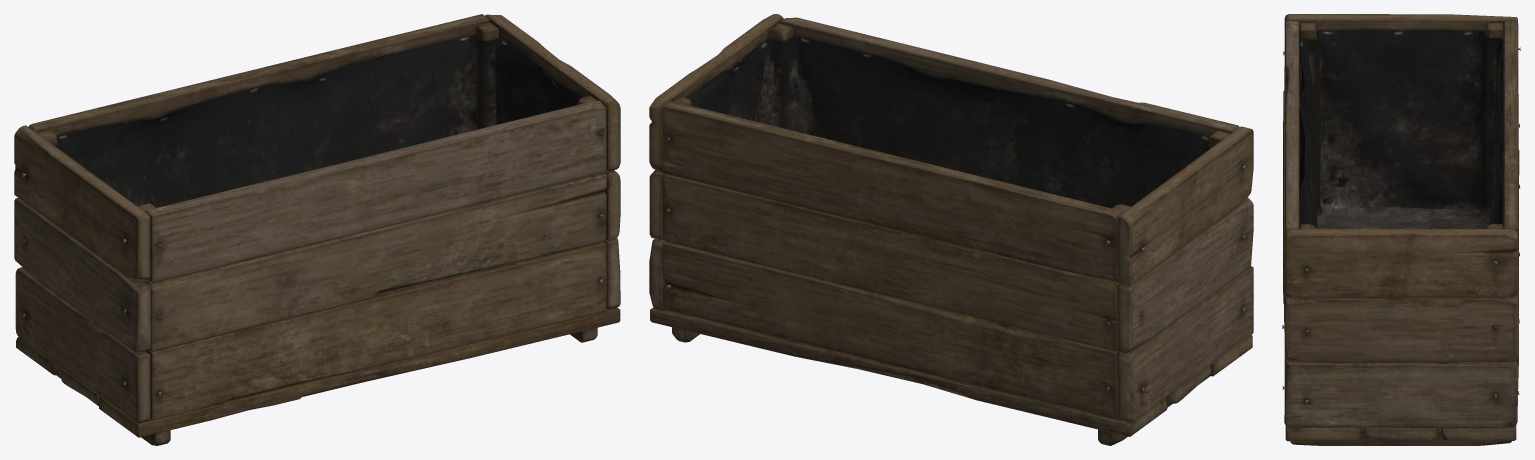
File: yd_planter_box_01.glb
3 renders of one model, left to right at view 1: azimuth 30°, elevation 25°; view 2: azimuth 150°, elevation 25°; view 3: azimuth 270°, elevation 25°, orthographic. The views are drawn at different scales.
Parts seen in each view (by area): view 1: planter_box_01; view 2: planter_box_01; view 3: planter_box_01.
Part boxes in pixels (x1,y1,x2,y2): planter_box_01: [14, 14, 620, 445]; planter_box_01: [649, 14, 1253, 445]; planter_box_01: [1282, 14, 1520, 445].
Size of the model in its own units: 0.9126 by 0.4249 by 0.4137.
1 material, 1 textured.
